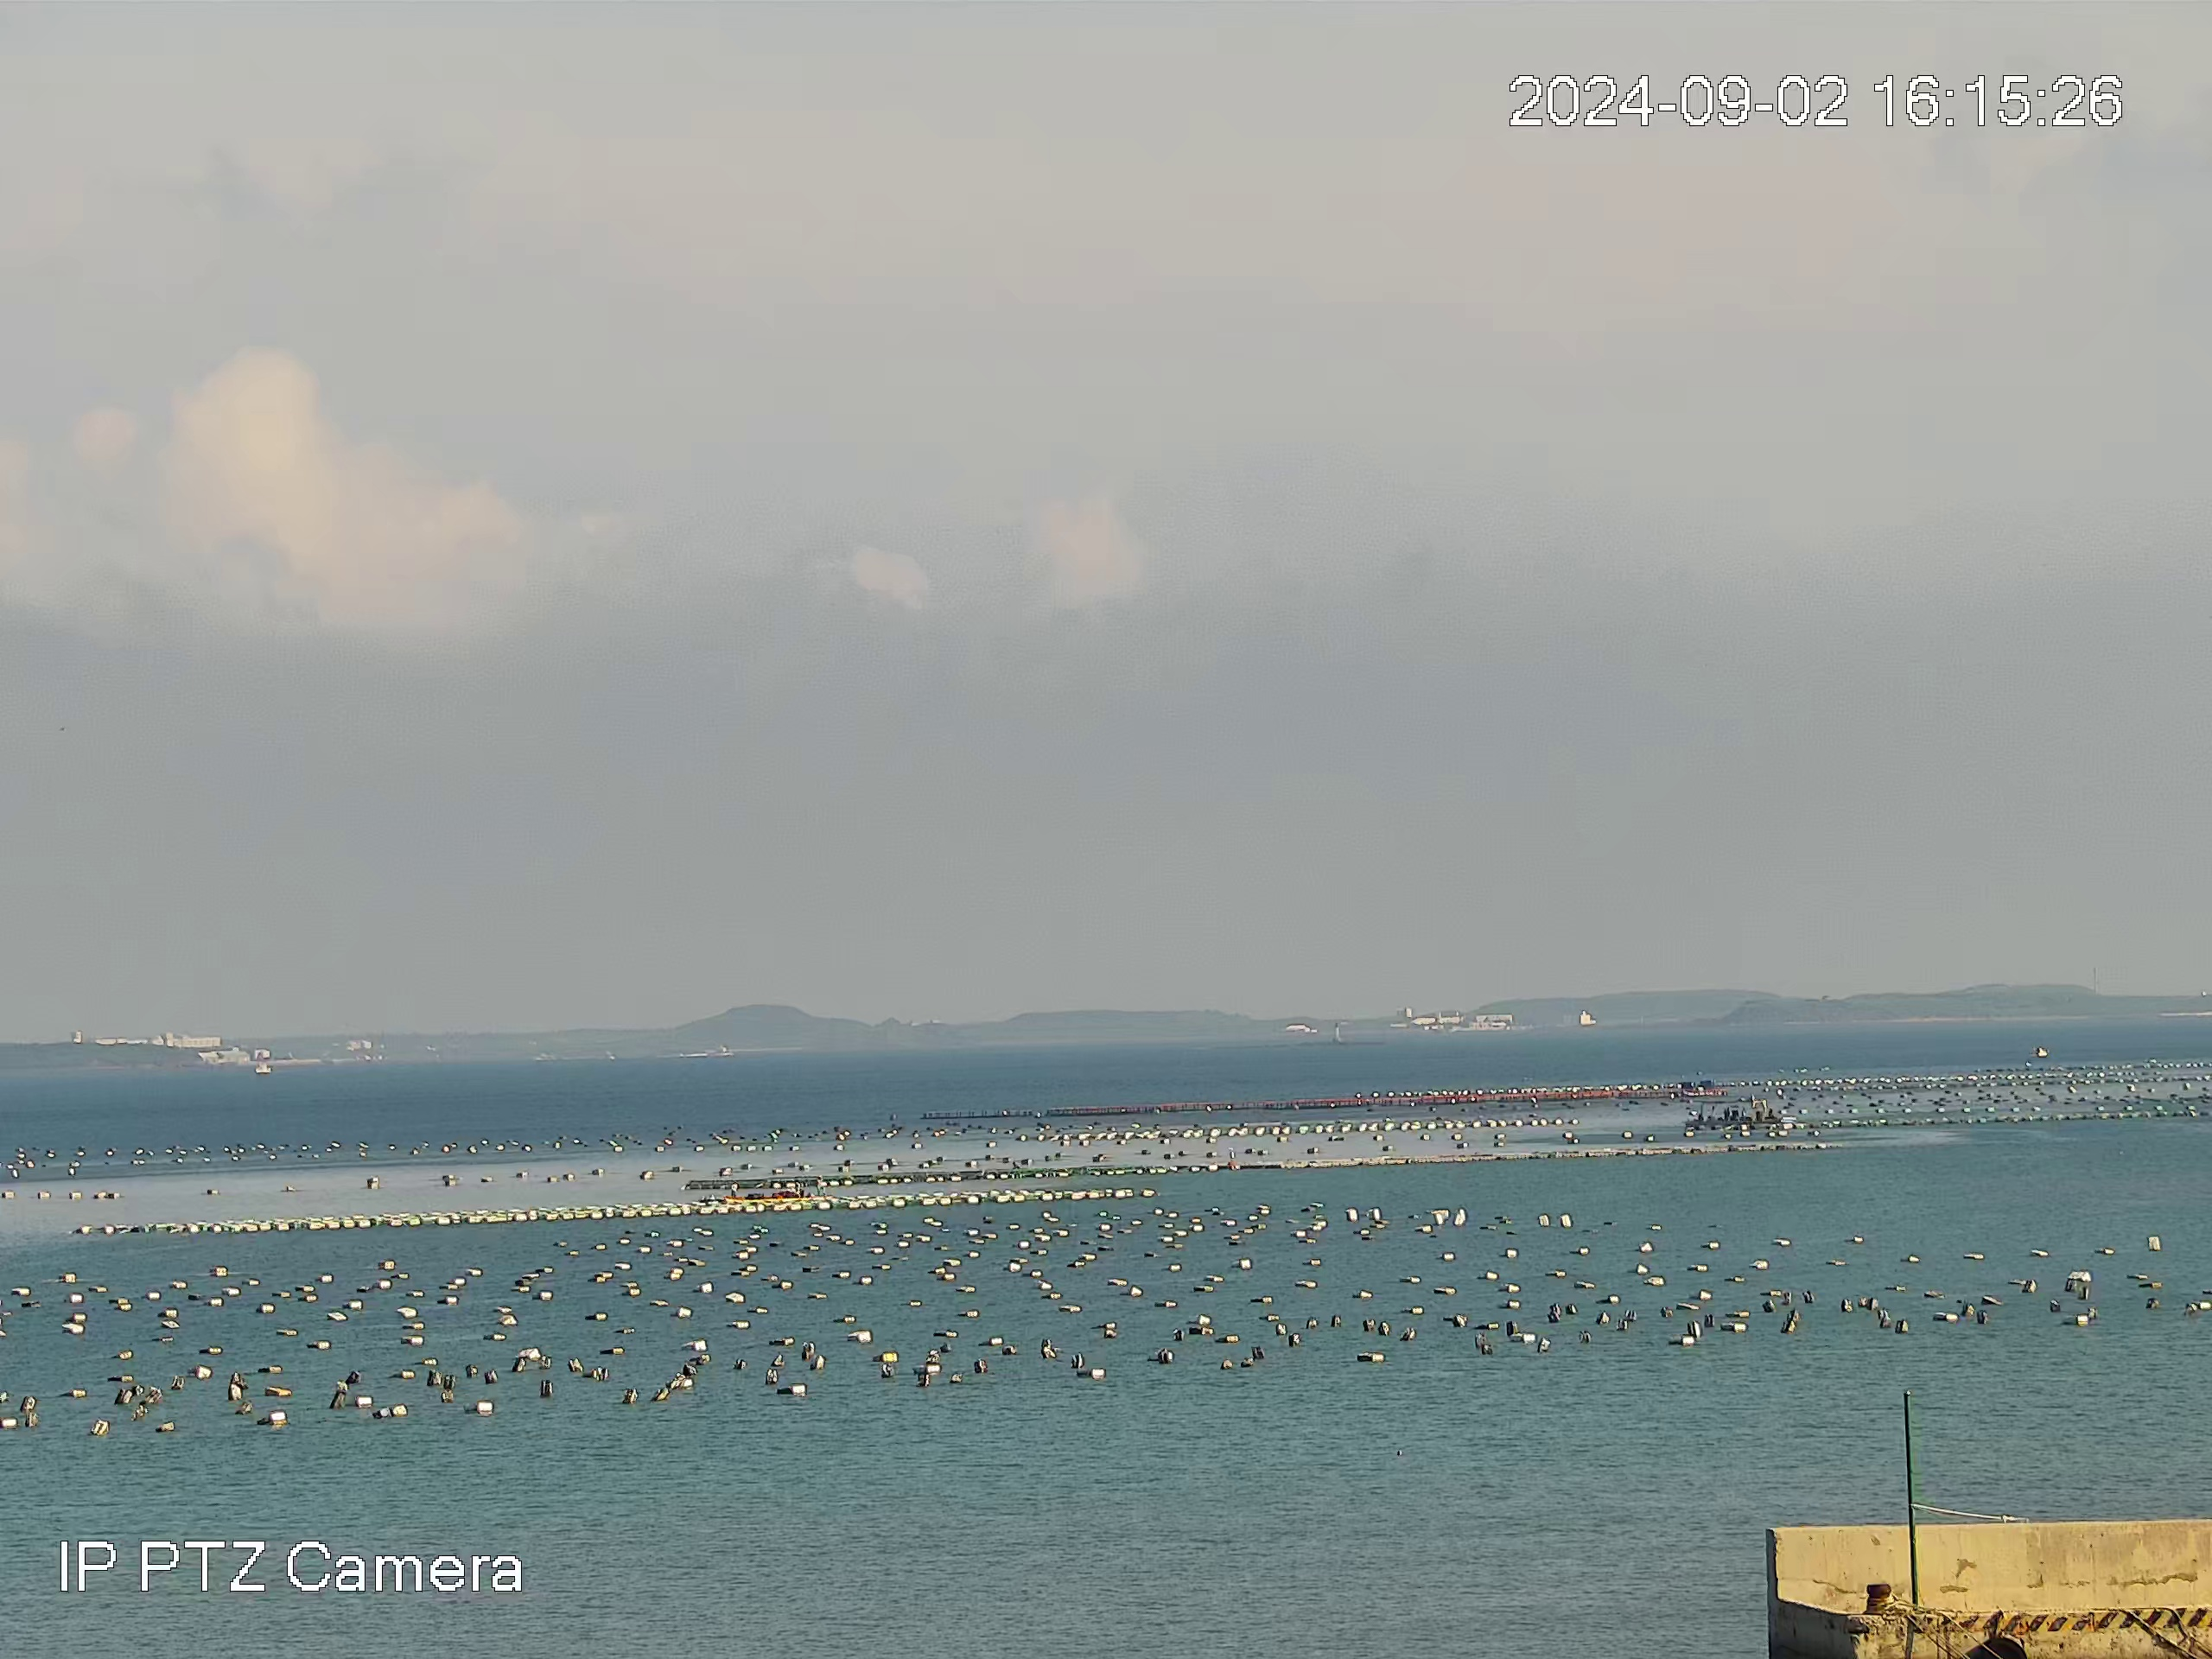boat: (1684, 1096, 1780, 1131), (723, 1178, 833, 1204)
